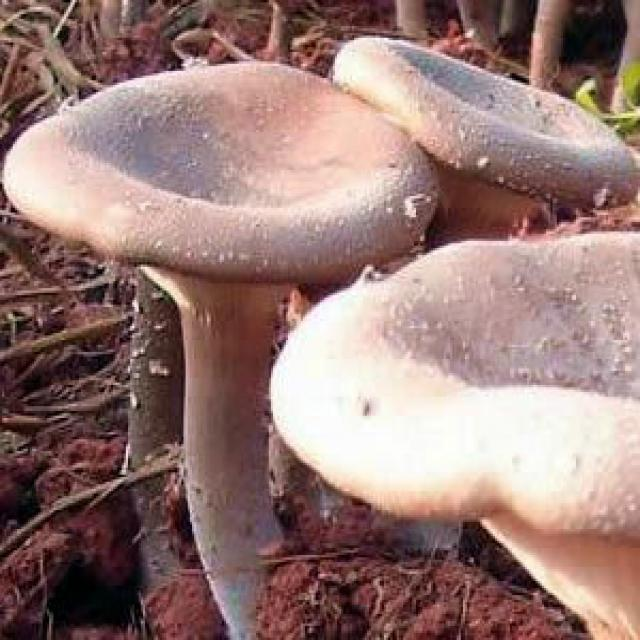Clitocybe maxima: (4, 63, 433, 629), (269, 238, 640, 638), (333, 38, 637, 237)
